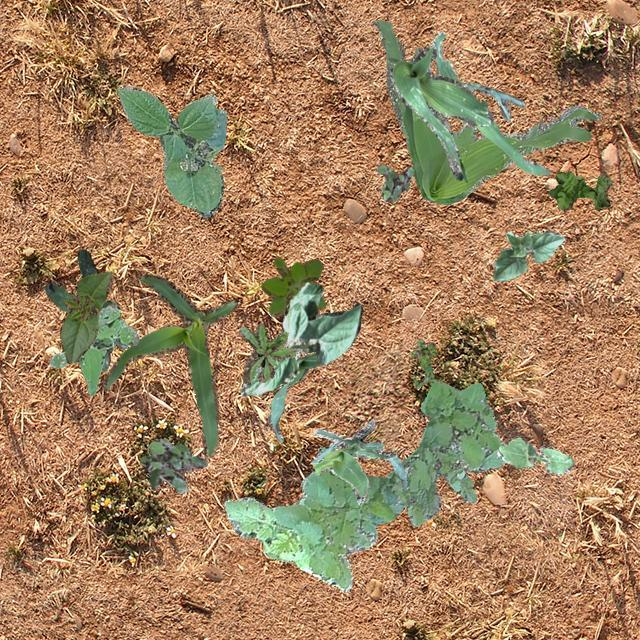crop: (100, 272, 237, 456), (430, 29, 550, 174), (116, 86, 226, 216), (387, 44, 492, 180), (240, 282, 362, 396), (310, 418, 406, 504), (59, 270, 112, 362), (266, 352, 318, 441), (492, 230, 564, 280), (496, 436, 574, 474)
weed: (224, 380, 504, 590), (372, 18, 600, 204), (44, 248, 126, 370), (48, 304, 138, 394), (260, 256, 326, 316), (138, 436, 206, 492), (238, 322, 296, 382), (546, 170, 612, 208), (376, 164, 412, 202), (408, 338, 434, 387)
